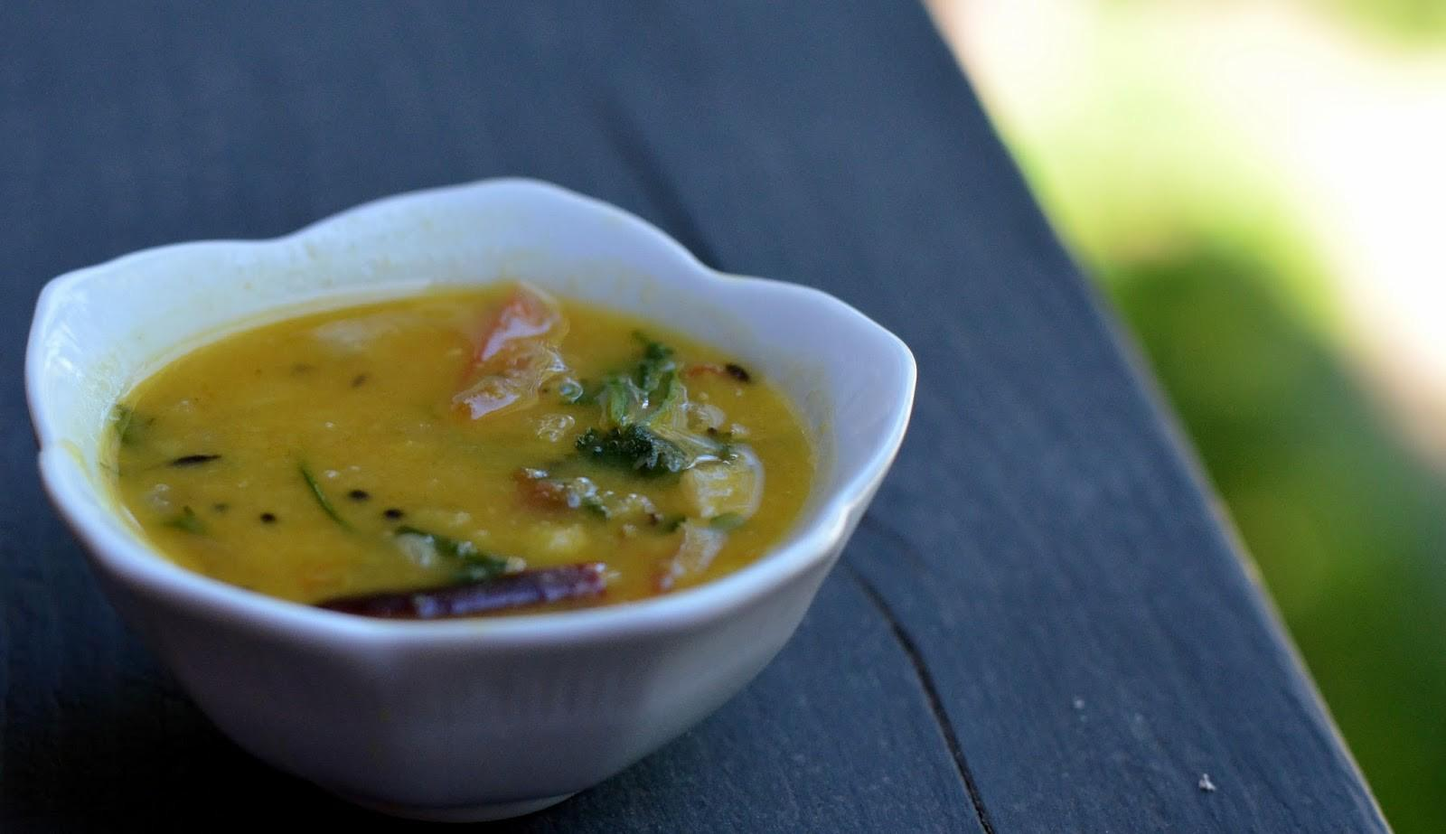Dal: (113, 280, 815, 619)
